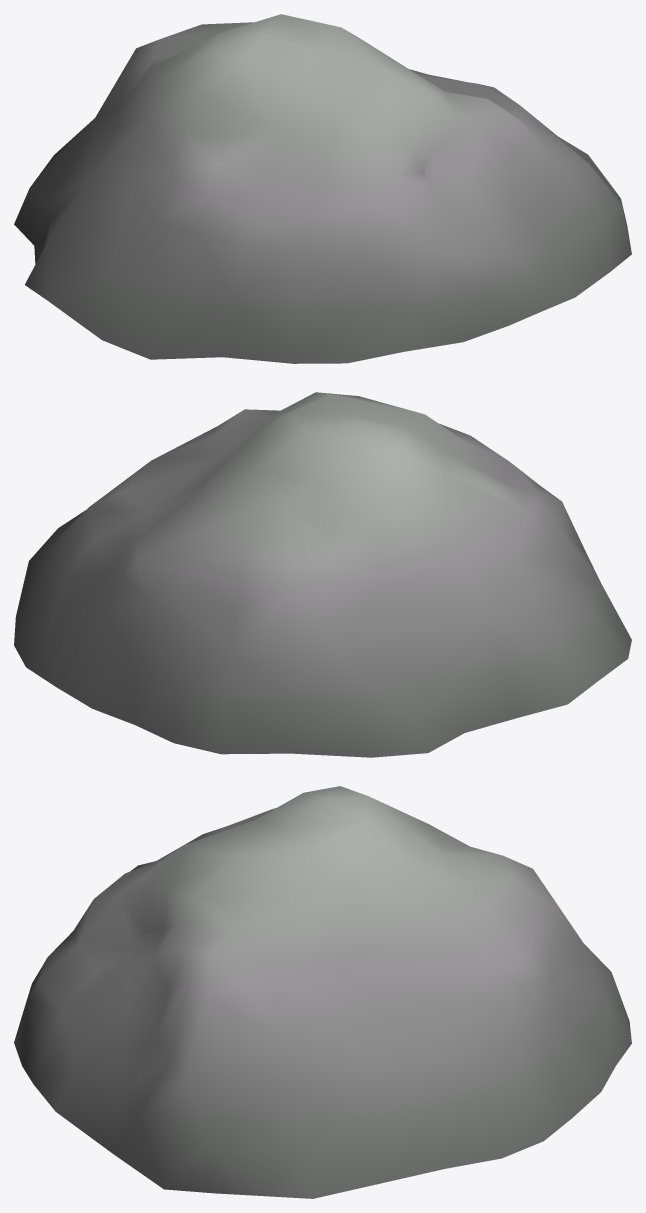
File: Rock_5.fbx
The picture shows the model from 3 angles, top to bottom: view 1: azimuth 30°, elevation 25°; view 2: azimuth 150°, elevation 25°; view 3: azimuth 270°, elevation 25°; orthographic projection. The views are drawn at different scales.
Visible parts, largest first — view 1: Rock_5; view 2: Rock_5; view 3: Rock_5.
Boxes of the visible parts, x1,y1,x2,y2 form: Rock_5: (14, 14, 631, 363); Rock_5: (14, 392, 631, 757); Rock_5: (14, 786, 631, 1198).
Size of the model in its own units: 807 by 322 by 741.
